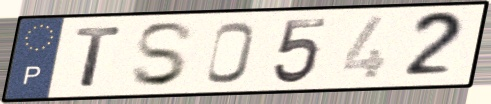0: (204, 20, 259, 85)
2: (399, 9, 471, 84)
4: (339, 13, 390, 82)
5: (269, 16, 332, 84)
S: (128, 20, 199, 89)
T: (73, 24, 127, 89)
